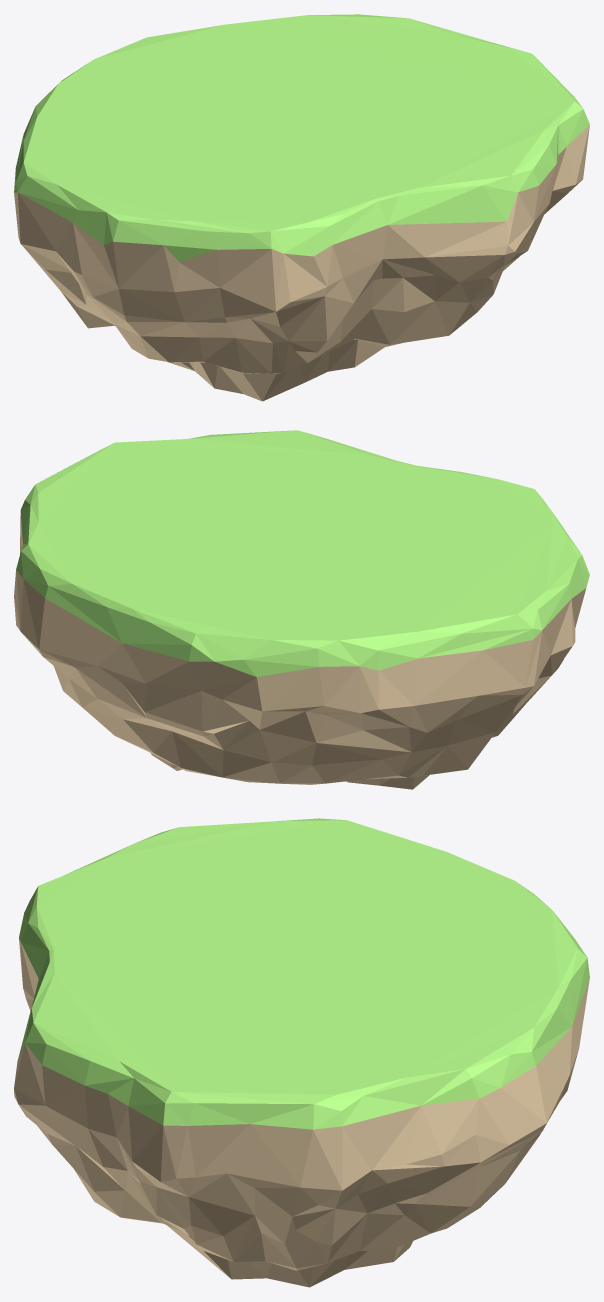
The model's file is floatingflowertextured.fbx.
3 views of the same model, one above another, from view 1: azimuth 30°, elevation 25°; view 2: azimuth 150°, elevation 25°; view 3: azimuth 270°, elevation 25° (orthographic). The views are drawn at different scales.
Parts seen in each view (by area): view 1: polySurface1; view 2: polySurface1; view 3: polySurface1.
Boxes of the visible parts, x1,y1,x2,y2 form: polySurface1: [14, 14, 589, 401]; polySurface1: [14, 430, 589, 789]; polySurface1: [14, 818, 589, 1287].
Bounding box in the file's own units: 21.23 × 8.74 × 17.48.
